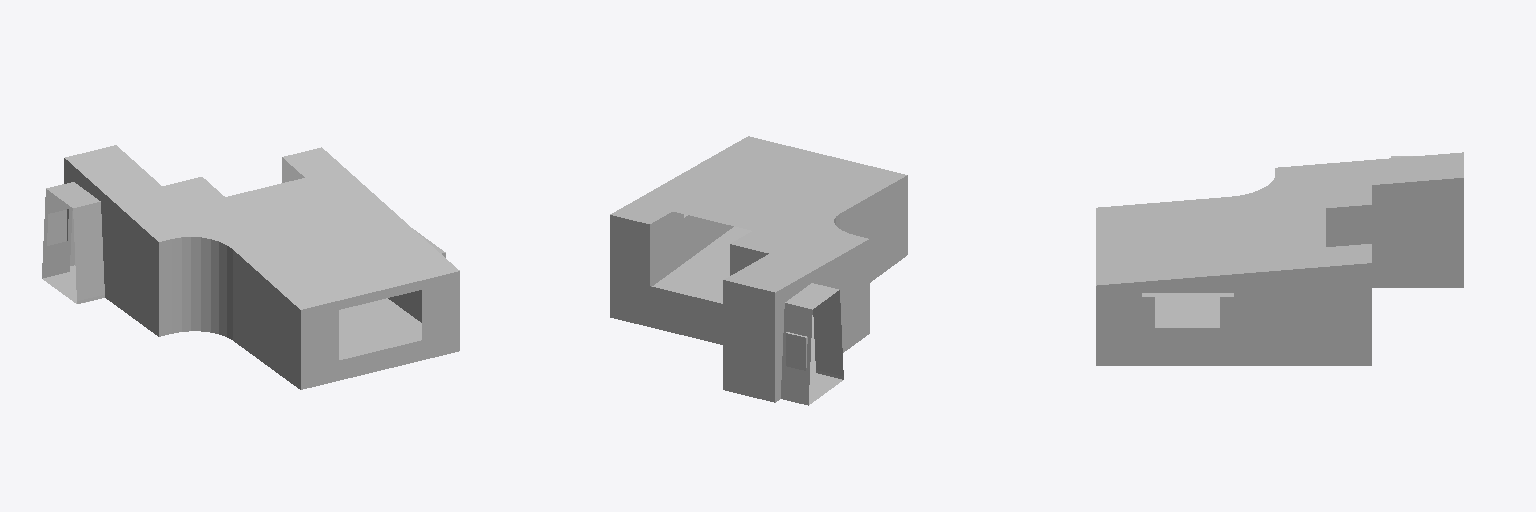
Rendered from player space.obj.
3 renders of one model, left to right at view 1: azimuth 30°, elevation 25°; view 2: azimuth 150°, elevation 25°; view 3: azimuth 270°, elevation 25°, orthographic.
Parts seen in each view (by area): view 1: Cube.021, Cube.018, Cube.017, Cube.009; view 2: Cube.021, Cube.018, Cube.017, Cube.009; view 3: Cube.021, Cube.018, Cube.009, Cube.017.
Boxes of the visible parts, <box> form: Cube.021: <box>42,161,459,386</box>; Cube.018: <box>65,145,459,309</box>; Cube.017: <box>43,265,421,359</box>; Cube.009: <box>42,157,459,389</box>; Cube.021: <box>610,161,907,401</box>; Cube.018: <box>610,136,906,292</box>; Cube.017: <box>652,226,842,404</box>; Cube.009: <box>610,175,907,405</box>; Cube.021: <box>1096,156,1463,362</box>; Cube.018: <box>1096,152,1463,285</box>; Cube.009: <box>1096,178,1463,365</box>; Cube.017: <box>1155,300,1219,320</box>.
Bounding box in the file's own units: 6.39 × 2.64 × 8.